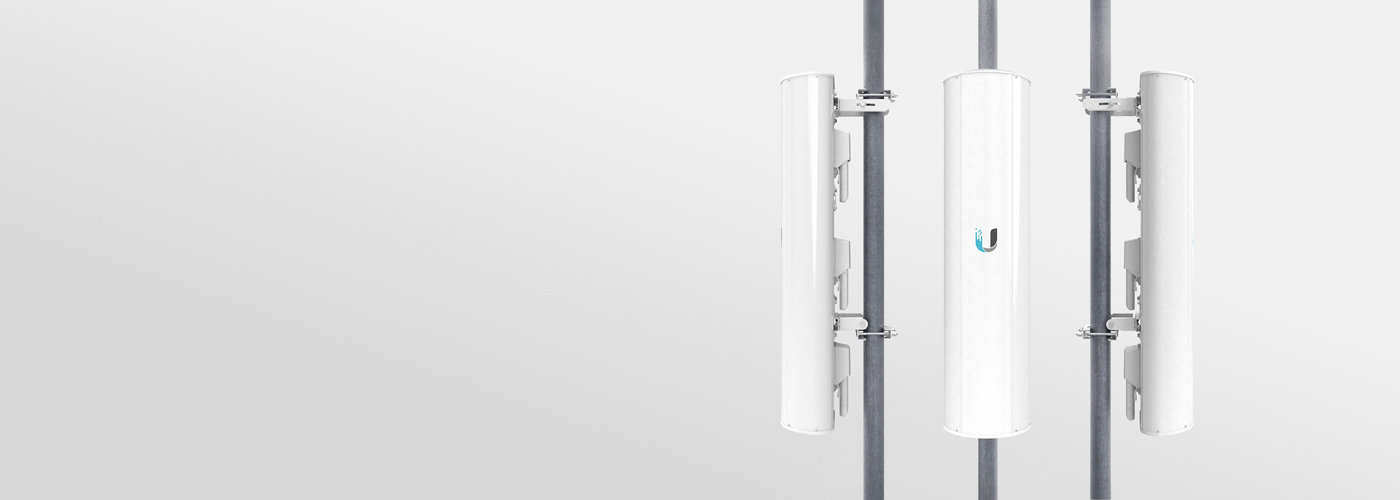sa: (921, 61, 1062, 467), (1106, 62, 1221, 453), (755, 45, 854, 464)
